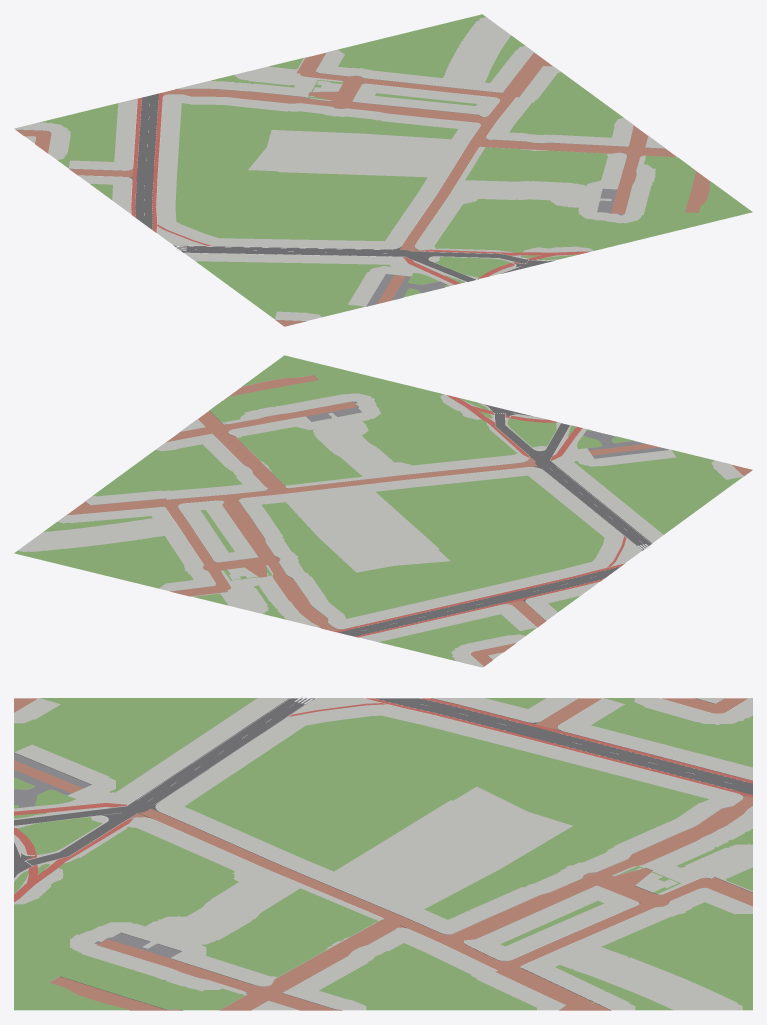
File: ground_6_7.glb
The picture shows the model from 3 angles, top to bottom: view 1: azimuth 30°, elevation 25°; view 2: azimuth 150°, elevation 25°; view 3: azimuth 270°, elevation 25°; orthographic projection. The views are drawn at different scales.
Parts seen in each view (by area): view 1: ground_6_7; view 2: ground_6_7; view 3: ground_6_7.
Part boxes in pixels (x1=…): ground_6_7: x1=14, y1=14, x2=752, y2=326; ground_6_7: x1=14, y1=355, x2=752, y2=667; ground_6_7: x1=14, y1=696, x2=752, y2=1010.
Bounding box in the file's own units: 201 × 0.12 × 200.
